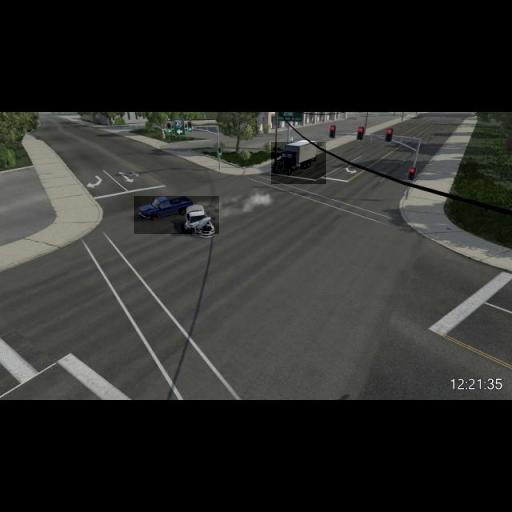小汽车: (271, 142, 326, 184)
小汽车撞小汽车: (134, 196, 219, 234)
